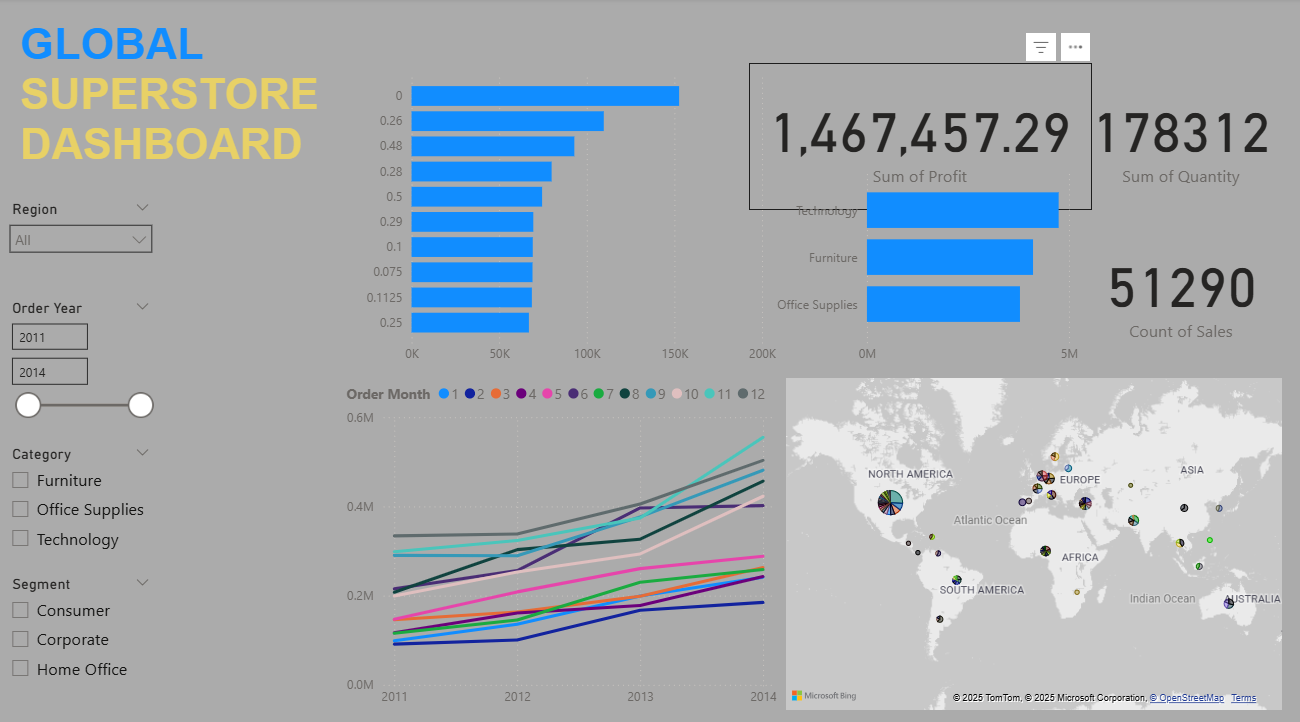

What the dashboard file says about the page in this screenshot:
{"tool":"powerbi","page":{"name":"Page 1","canvas":[1280,720],"ordinal":0},"visuals":[{"type":"card","fields":{"Values":["CountNonNull(Global_Superstore2.Sales)"]},"box":[1056,224,208,128],"z":0},{"type":"card","fields":{"Values":["Sum(Global_Superstore2.Profit)"]},"box":[736,64,336,144],"z":1000},{"type":"card","fields":{"Values":["Sum(Global_Superstore2.Quantity)"]},"box":[1056,64,208,144],"z":2000},{"type":"barChart","fields":{"Category":["Global_Superstore2.Profit Margin"],"Y":["Sum(Global_Superstore2.Sales)"]},"box":[352,64,416,304],"z":3000},{"type":"barChart","fields":{"Category":["Global_Superstore2.Category"],"Y":["Sum(Global_Superstore2.Sales)"]},"box":[752,160,352,208],"z":4000},{"type":"lineChart","fields":{"Category":["Global_Superstore2.Order Year"],"Y":["Sum(Global_Superstore2.Sales)"],"Series":["Global_Superstore2.Order Month"]},"box":[336,368,432,336],"z":5000},{"type":"map","fields":{"Category":["Global_Superstore2.Country"],"Size":["Avg(Global_Superstore2.Sales)"],"Series":["Global_Superstore2.Profit"]},"box":[768,368,496,336],"z":6000},{"type":"slicer","fields":{"Values":["Global_Superstore2.Category"]},"box":[0,434.5,160,128],"z":7000},{"type":"slicer","fields":{"Values":["Global_Superstore2.Segment"]},"box":[0,562.5,160,128],"z":8000},{"type":"slicer","fields":{"Values":["Global_Superstore2.Region"]},"box":[0,194.5,160,128],"z":9000},{"type":"slicer","fields":{"Values":["Global_Superstore2.Order Year"]},"box":[0,290.5,160,160],"z":10000},{"type":"textbox","box":[16,16,336,176],"z":11000}]}

Visuals, with their boxes on the page's 1280x720 design canvas (x1, y1, x2, y2). These are canvas units, not pixel positions in the 1300x722 screenshot, which may show the page scaled, cropped or inside an application window:
card - CountNonNull(Global_Superstore2.Sales): left=1056, top=224, right=1264, bottom=352
card - Sum(Global_Superstore2.Profit): left=736, top=64, right=1072, bottom=208
card - Sum(Global_Superstore2.Quantity): left=1056, top=64, right=1264, bottom=208
barChart - Global_Superstore2.Profit Margin x Sum(Global_Superstore2.Sales): left=352, top=64, right=768, bottom=368
barChart - Global_Superstore2.Category x Sum(Global_Superstore2.Sales): left=752, top=160, right=1104, bottom=368
lineChart - Global_Superstore2.Order Year x Sum(Global_Superstore2.Sales): left=336, top=368, right=768, bottom=704
map - Global_Superstore2.Country x Avg(Global_Superstore2.Sales): left=768, top=368, right=1264, bottom=704
slicer - Global_Superstore2.Category: left=0, top=434, right=160, bottom=562
slicer - Global_Superstore2.Segment: left=0, top=562, right=160, bottom=690
slicer - Global_Superstore2.Region: left=0, top=194, right=160, bottom=322
slicer - Global_Superstore2.Order Year: left=0, top=290, right=160, bottom=450
textbox: left=16, top=16, right=352, bottom=192
